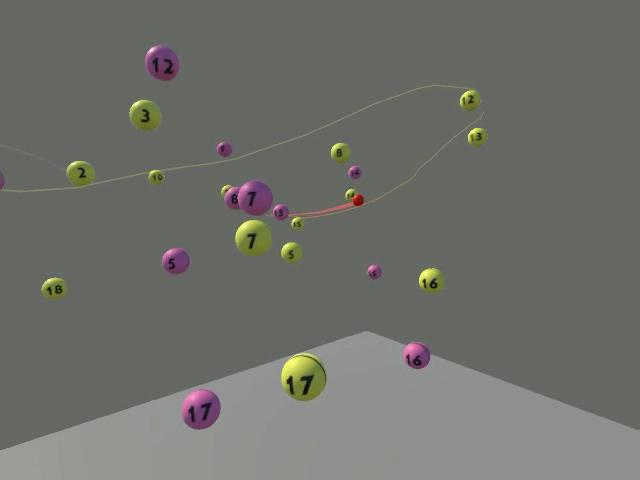ball_02_yellow: (65, 160, 94, 185)
ball_03_yellow: (128, 99, 161, 130)
ball_05_pink: (161, 247, 189, 274)
ball_05_yellow: (280, 241, 302, 263)
ball_07_pink: (238, 180, 272, 215)
ball_07_yellow: (234, 219, 271, 256)
ball_08_pink: (223, 186, 240, 209)
ball_08_yellow: (330, 142, 350, 162)
ball_09_pink: (216, 141, 232, 157)
ball_10_yellow: (147, 169, 164, 185)
ball_12_pink: (144, 44, 179, 80)
ball_12_yellow: (460, 90, 482, 111)
ball_13_pink: (272, 203, 288, 220)
ball_13_yellow: (467, 127, 487, 146)
ball_14_pink: (347, 165, 361, 179)
ball_15_pink: (367, 264, 381, 279)
ball_15_yellow: (290, 216, 305, 230)
ball_16_pink: (402, 341, 429, 369)
ball_16_yellow: (419, 268, 444, 292)
ball_17_pink: (181, 389, 220, 429)
ball_17_yellow: (280, 353, 326, 401)
ball_18_yellow: (40, 277, 66, 298)
ball_unknown: (220, 184, 232, 196), (344, 188, 356, 200), (0, 171, 5, 189)
user_cursor: (351, 193, 364, 206)
